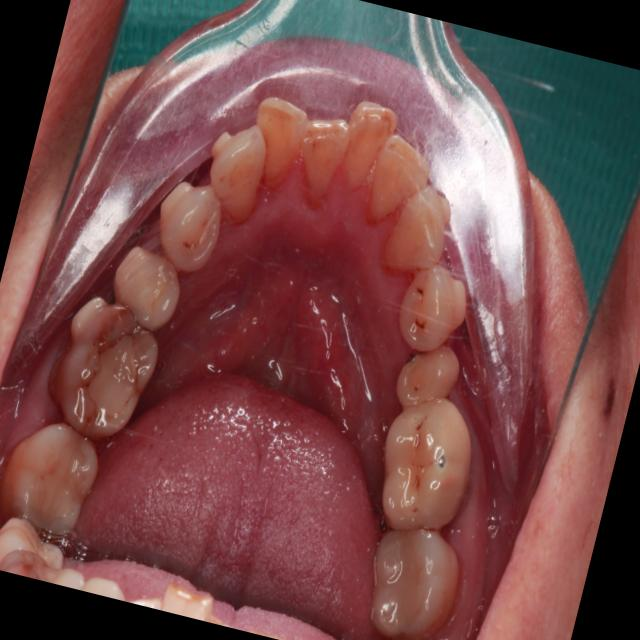tooth: (32, 283, 179, 470), (353, 379, 493, 560), (349, 499, 482, 640), (0, 402, 115, 562), (224, 68, 326, 217), (129, 166, 244, 293), (352, 105, 445, 249), (187, 114, 291, 240), (373, 164, 466, 301), (388, 246, 488, 372), (321, 79, 409, 218), (280, 92, 363, 219), (99, 239, 192, 345), (384, 334, 469, 429)
